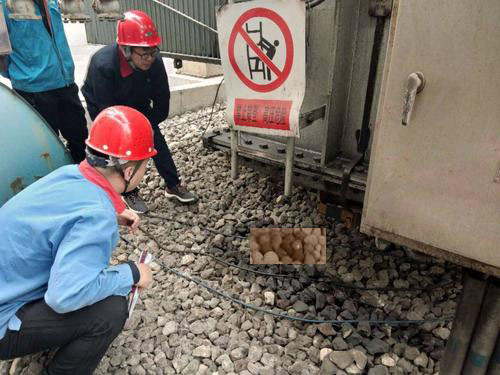oil: (252, 226, 329, 264)
